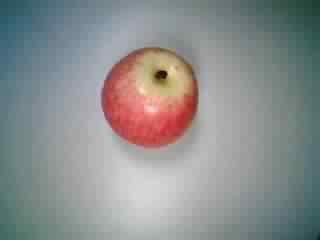apple: (96, 47, 201, 149)
